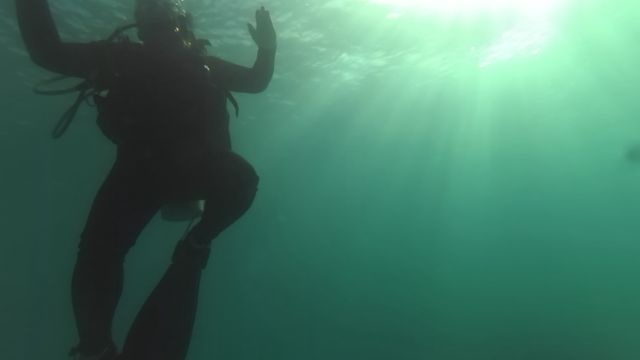Diver: (8, 1, 285, 355)
Hand: (240, 5, 279, 63)
